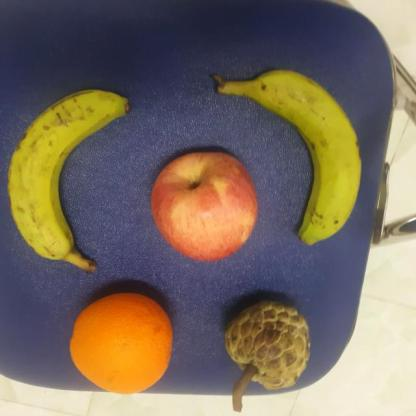annona: (227, 300, 314, 391)
apple: (150, 149, 259, 262)
banana: (213, 70, 362, 246), (2, 88, 133, 273)
orange: (67, 282, 174, 397)
